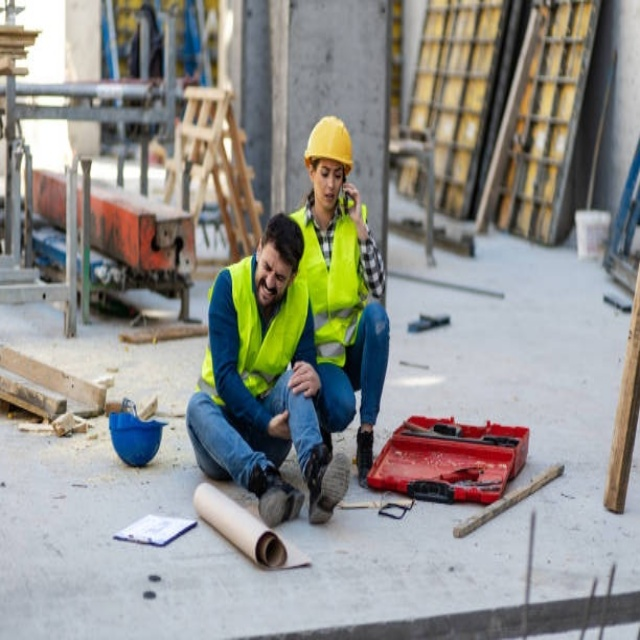Sin_gafas: (258, 253, 288, 287), (318, 163, 343, 180)
Sin_guantes: (287, 360, 321, 403), (342, 182, 367, 227)
Sin_mascara: (319, 190, 337, 209), (256, 282, 271, 303)
